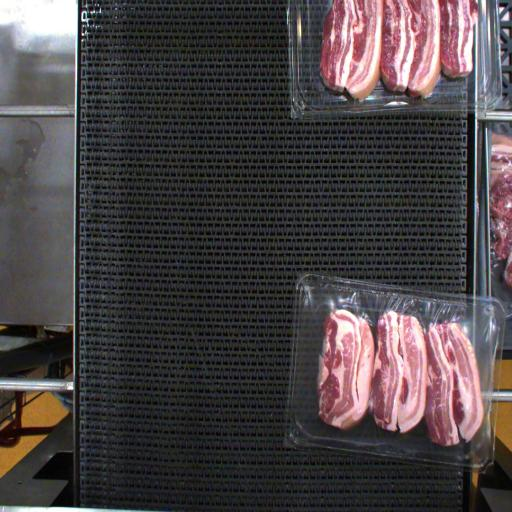unsealed: (297, 275, 488, 442)
